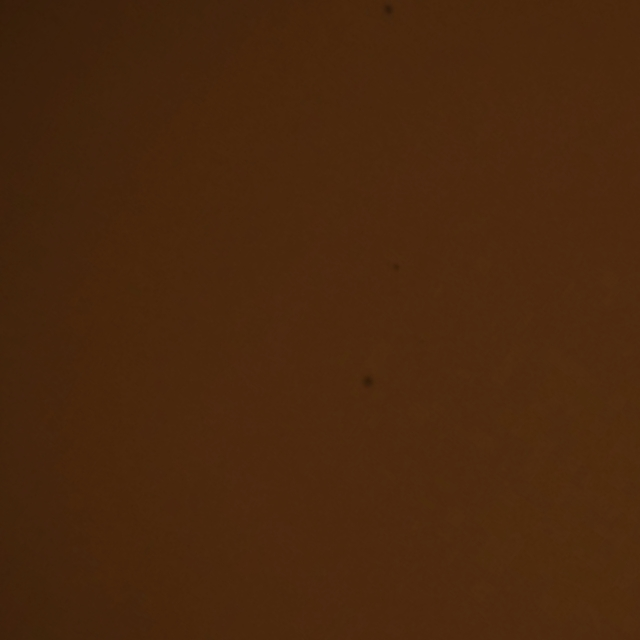sunspot: (360, 373, 376, 392), (382, 2, 396, 18), (392, 262, 402, 274)
